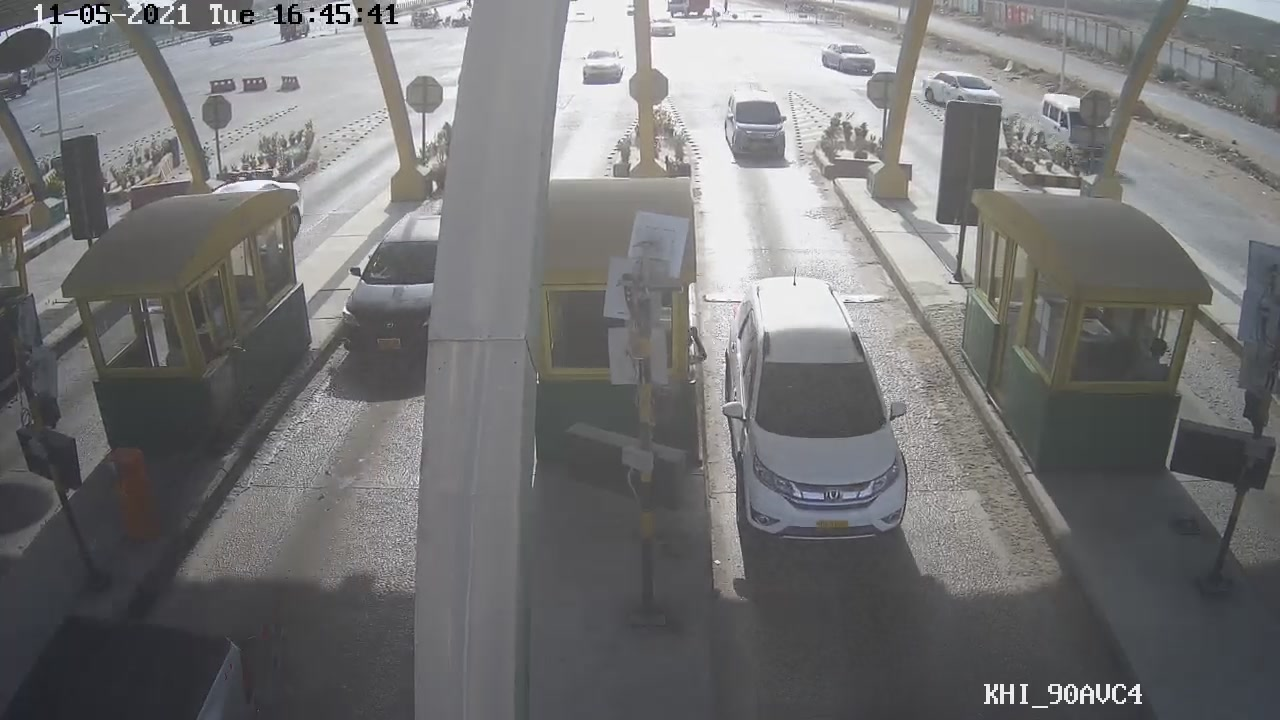F1: (717, 270, 925, 548)
